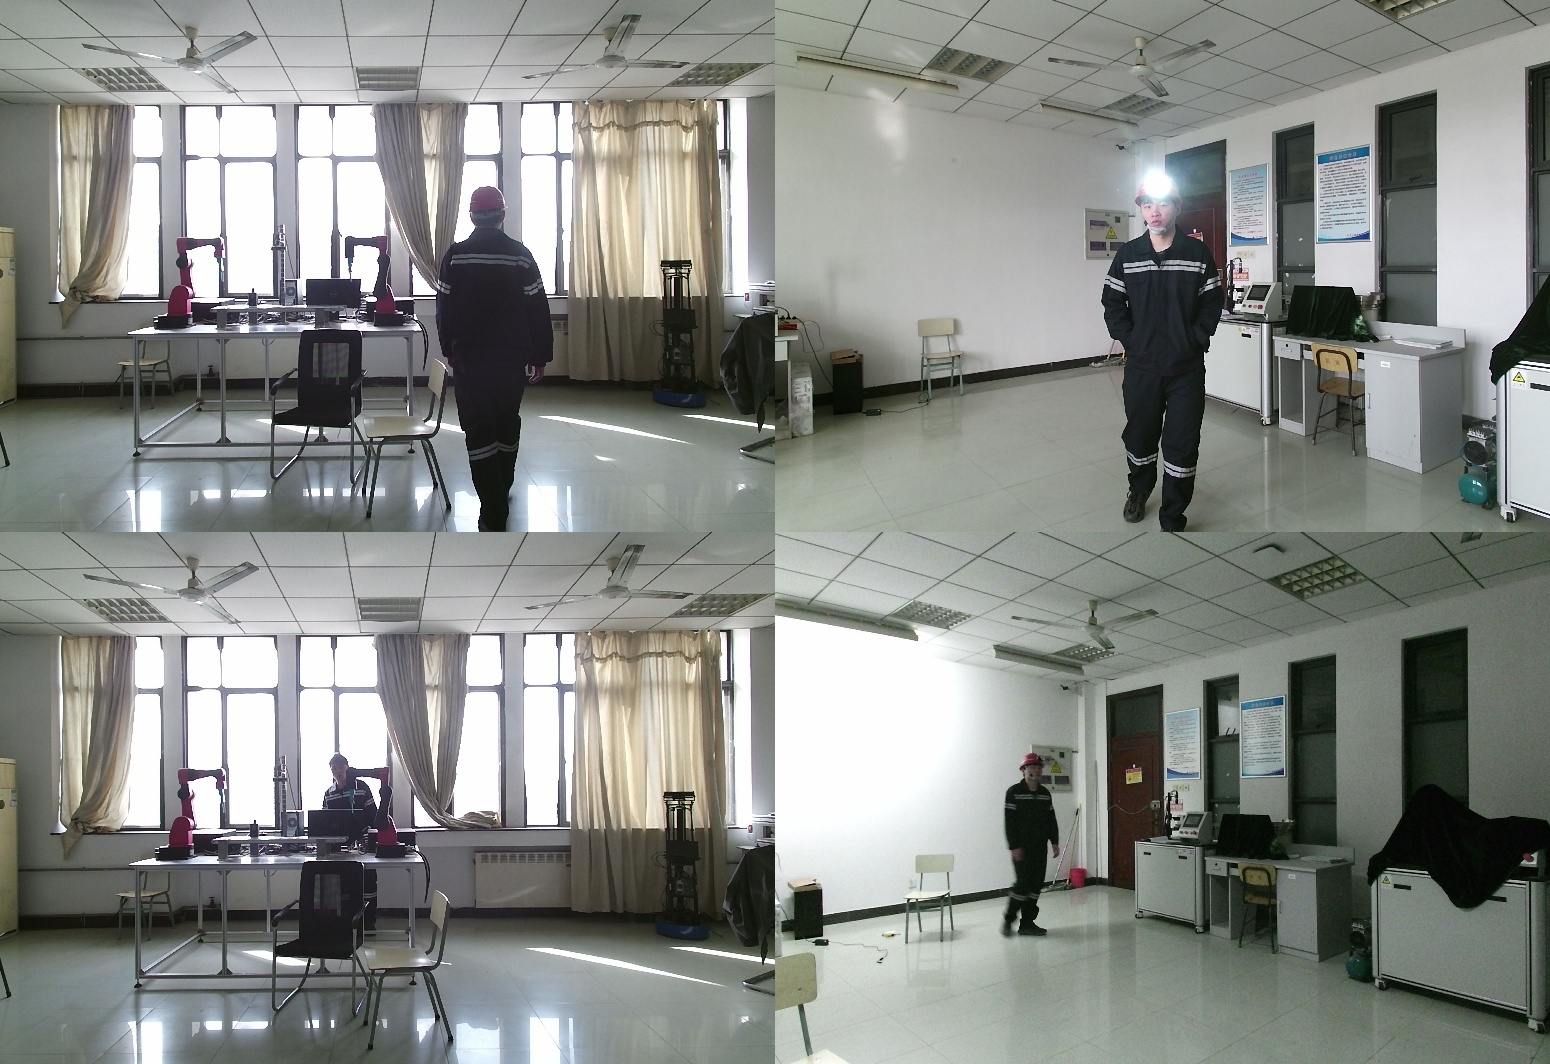person: (1096, 175, 1230, 532), (438, 185, 559, 532), (989, 757, 1056, 949), (315, 755, 381, 935)
